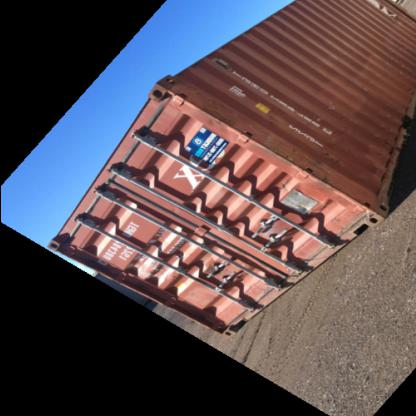Damage: (260, 139, 304, 172), (304, 165, 346, 195), (196, 95, 235, 126), (342, 183, 379, 214), (238, 118, 272, 151), (157, 78, 194, 98), (322, 94, 342, 111), (319, 143, 333, 160)
